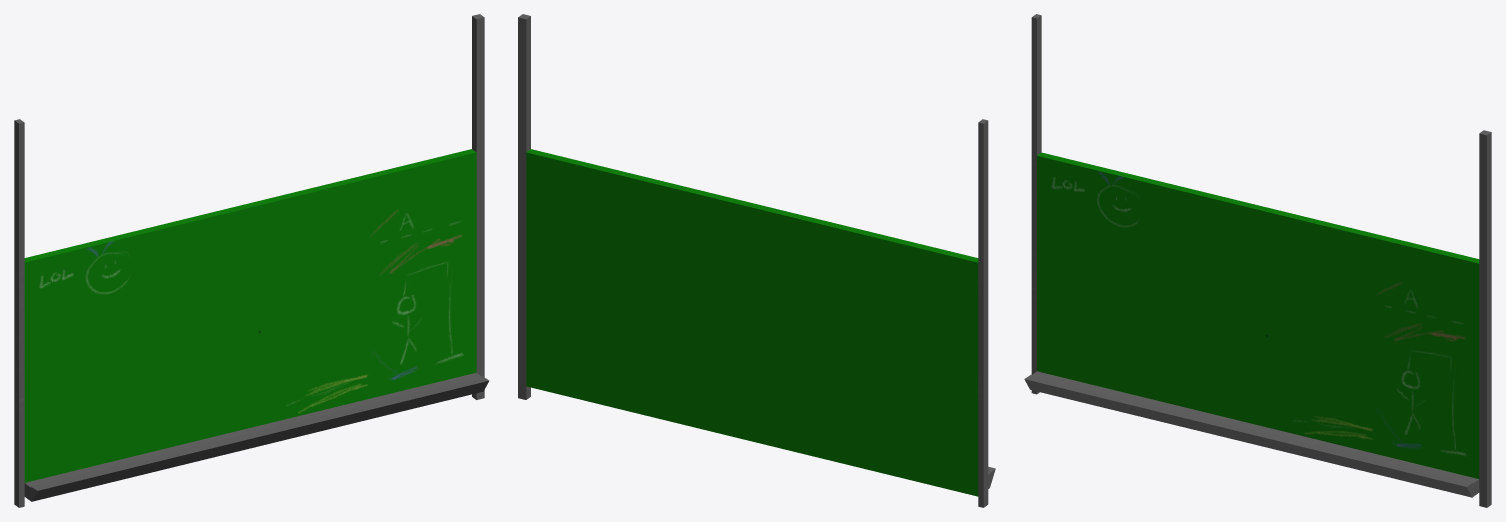
Rendered from Chalkboard.fbx.
The picture shows the model from 3 angles, left to right: view 1: azimuth 30°, elevation 25°; view 2: azimuth 150°, elevation 25°; view 3: azimuth 330°, elevation 25°; orthographic projection. The views are drawn at different scales.
Parts seen in each view (by area): view 1: Chalboard; view 2: Chalboard; view 3: Chalboard.
Boxes of the visible parts, x1=… form: Chalboard: x1=14, y1=14, x2=489, y2=507; Chalboard: x1=518, y1=14, x2=995, y2=507; Chalboard: x1=1024, y1=14, x2=1491, y2=507.
Size of the model in its own units: 111 by 88.19 by 7.27.
Materials: 1 (1 with a texture image).
